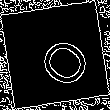O_NW: (21, 22, 89, 88)
